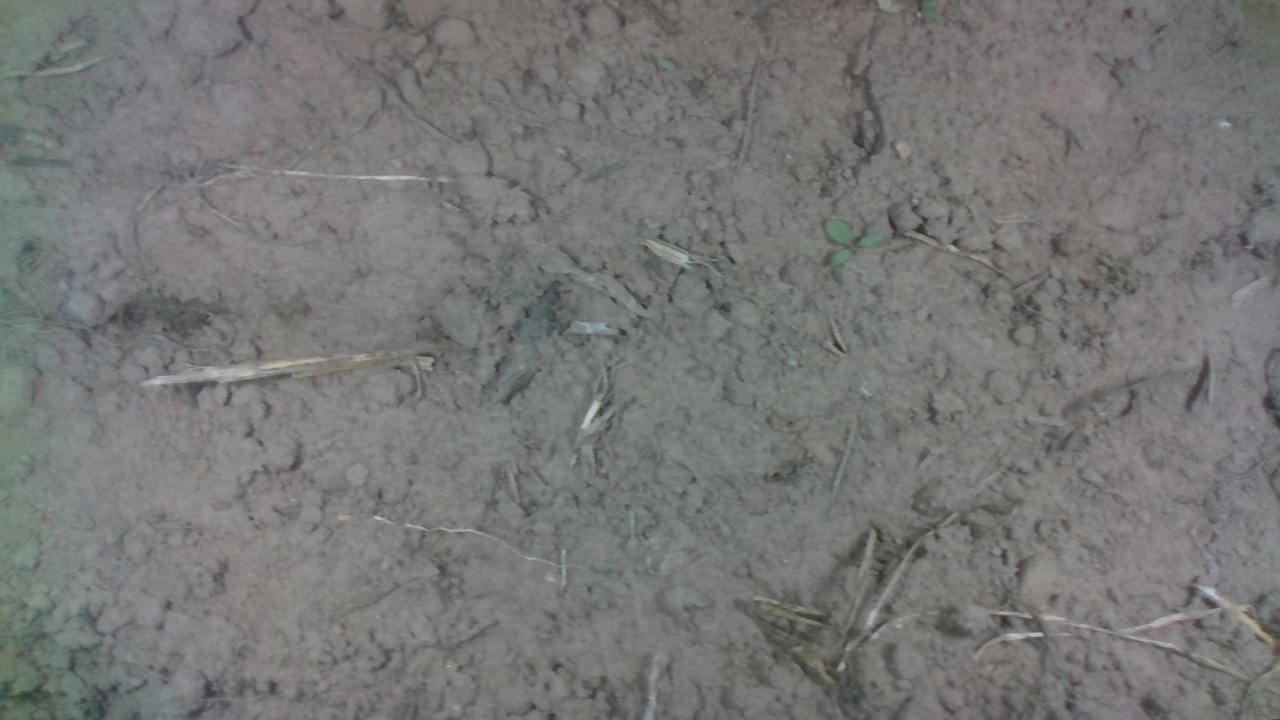weed: (821, 216, 886, 270)
